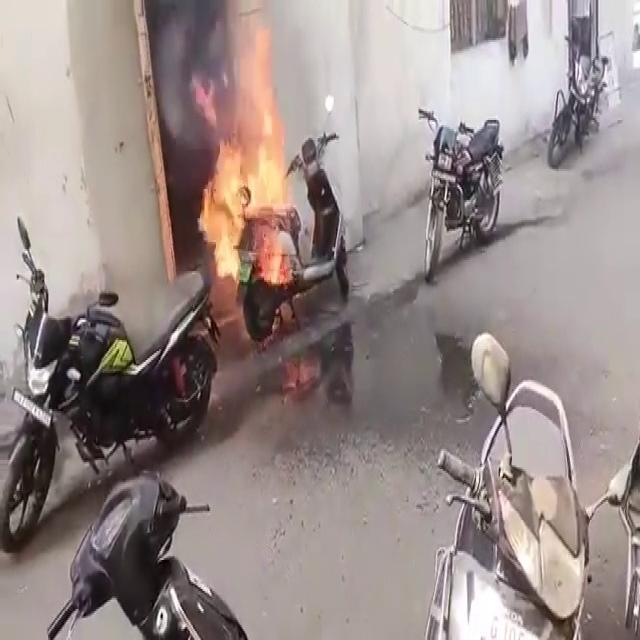Fire: (194, 20, 296, 308)
